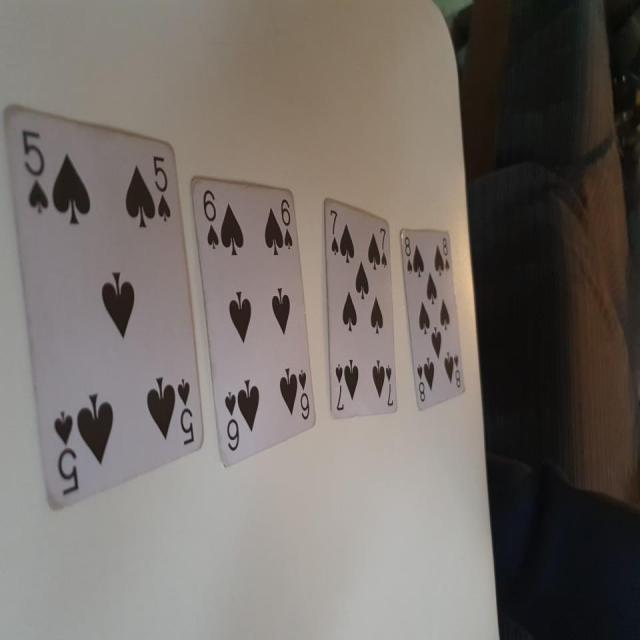5 of spades: (0, 104, 206, 518)
6 of spades: (190, 170, 316, 472)
7 of spades: (320, 190, 402, 430)
8 of spades: (394, 225, 466, 416)
